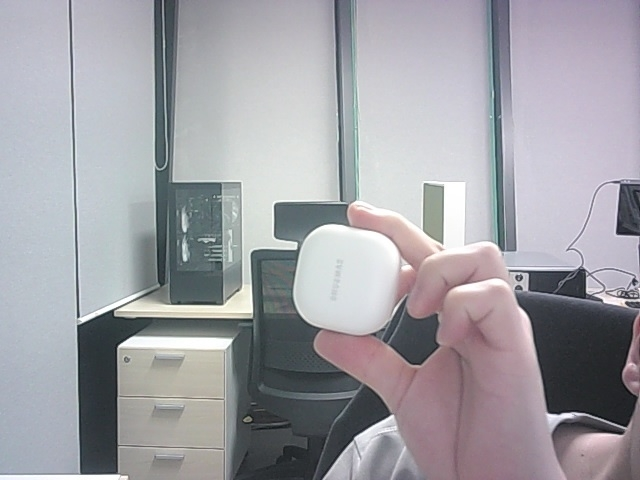case: (293, 224, 400, 335)
